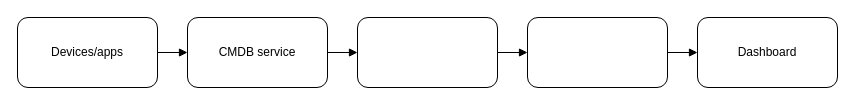
The diagram is 855 pixels wide and 105 high, and some of its shapes have lost their labels. The centre of each missing label's shape, as x and y in pixels:
"Impact tag" goes at [597,52].
"Incident engine" goes at [427,52].
